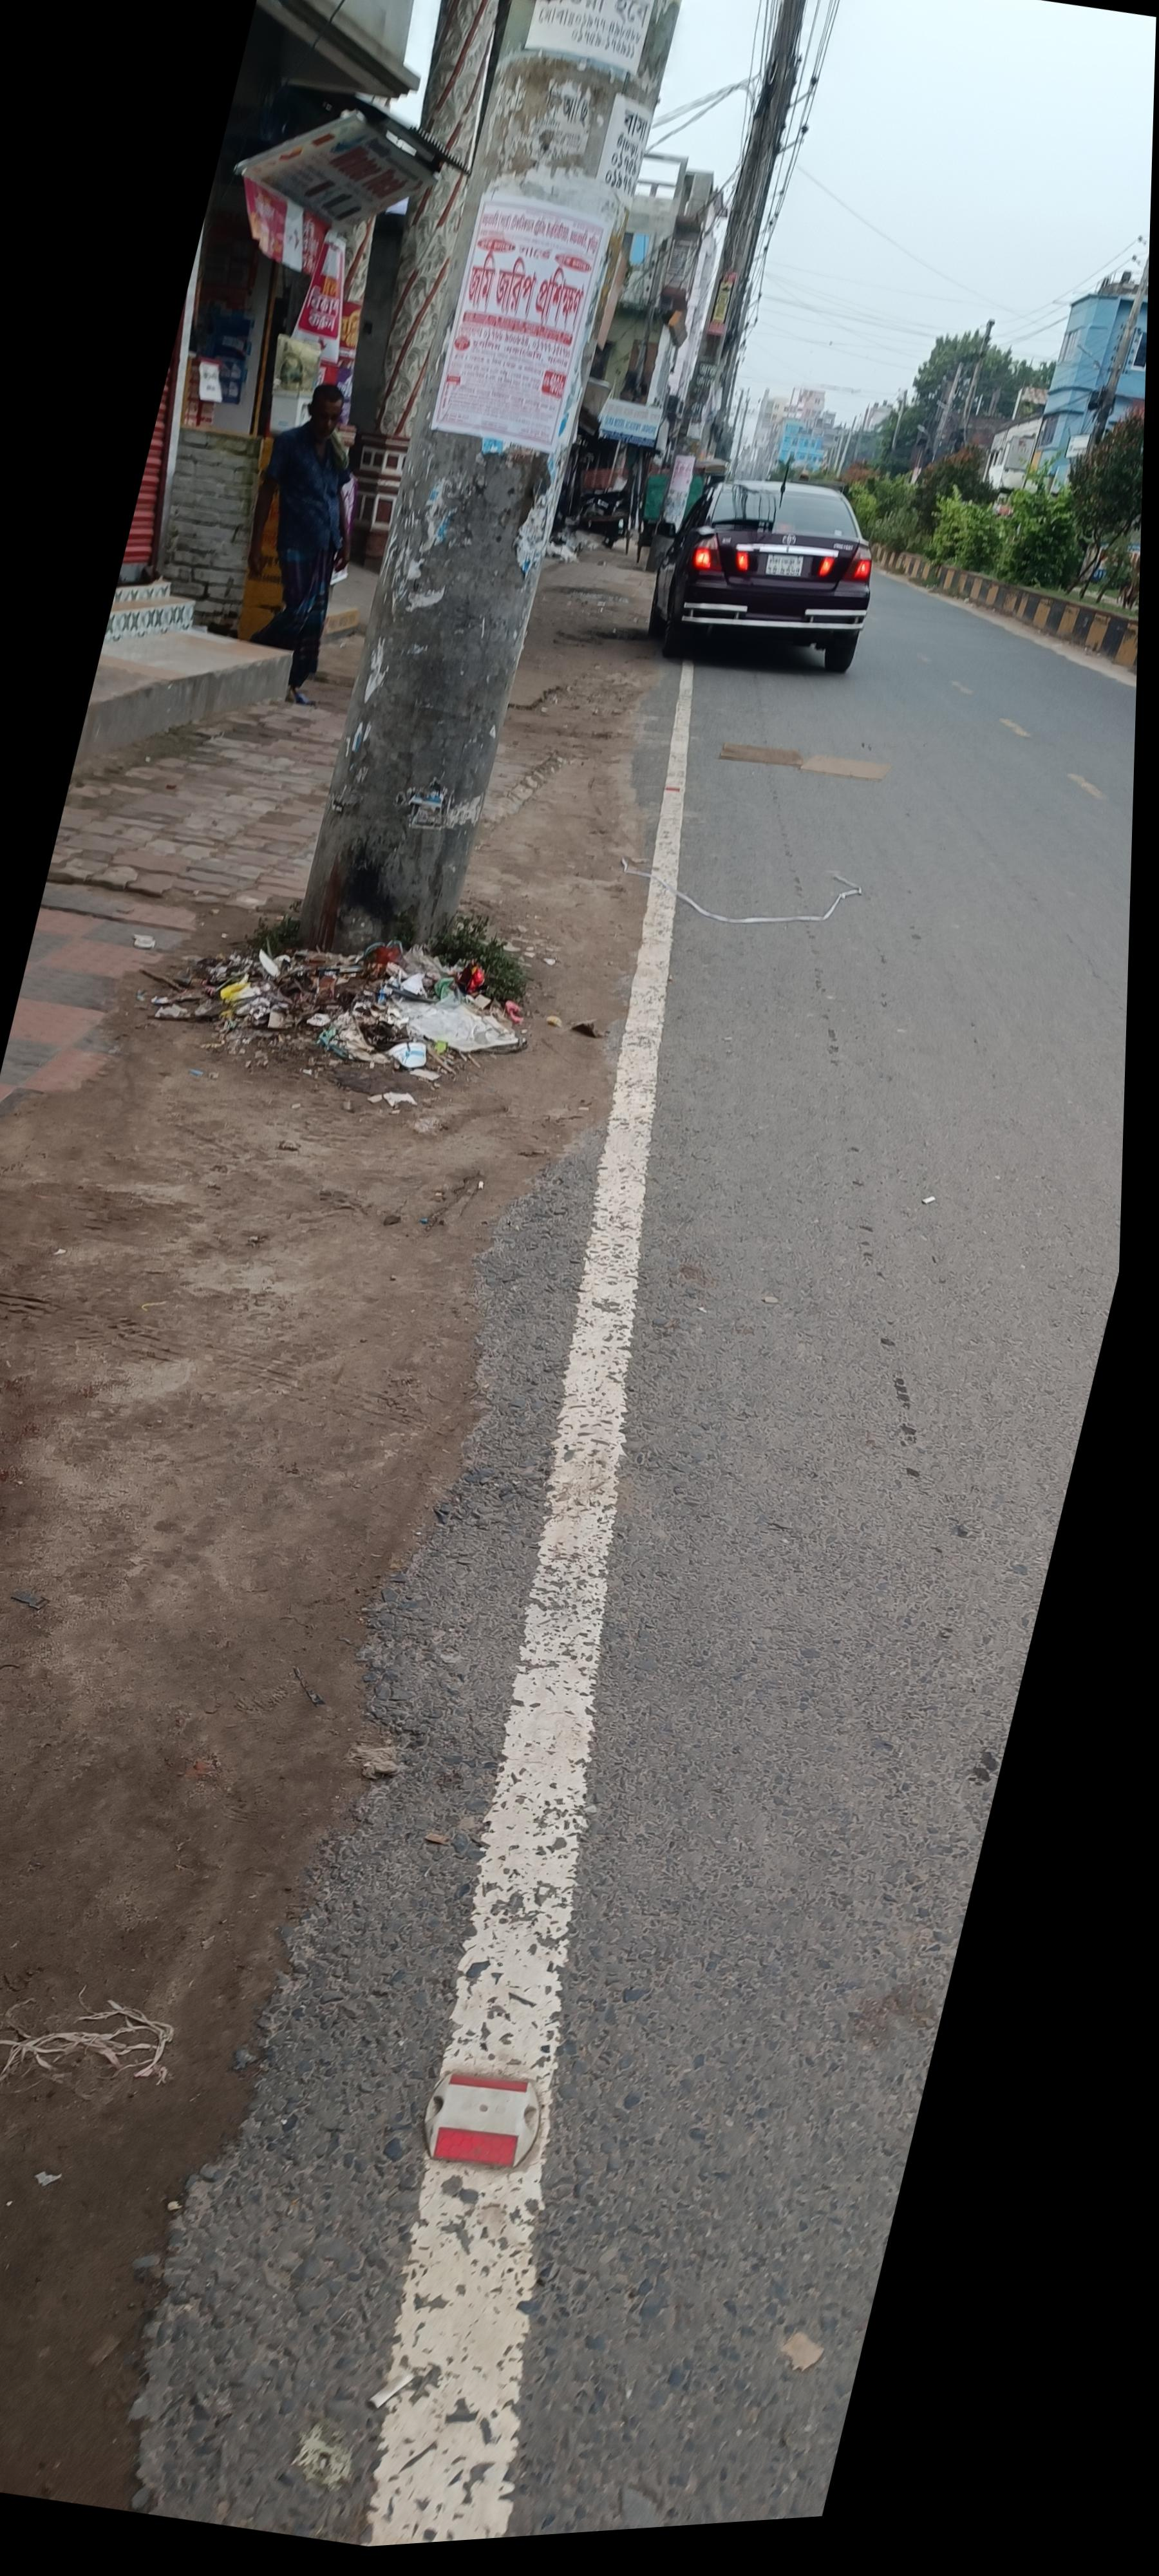Dog: (397, 779, 827, 1022)
Garbage-bin: (483, 273, 665, 616)
Light-pole: (553, 0, 965, 885)
Pothole: (0, 332, 1015, 2461)
